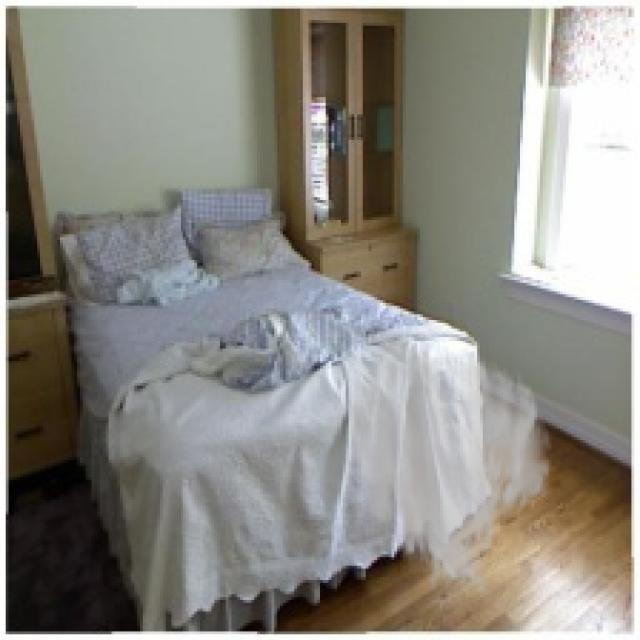Smoke: (346, 334, 554, 600)
